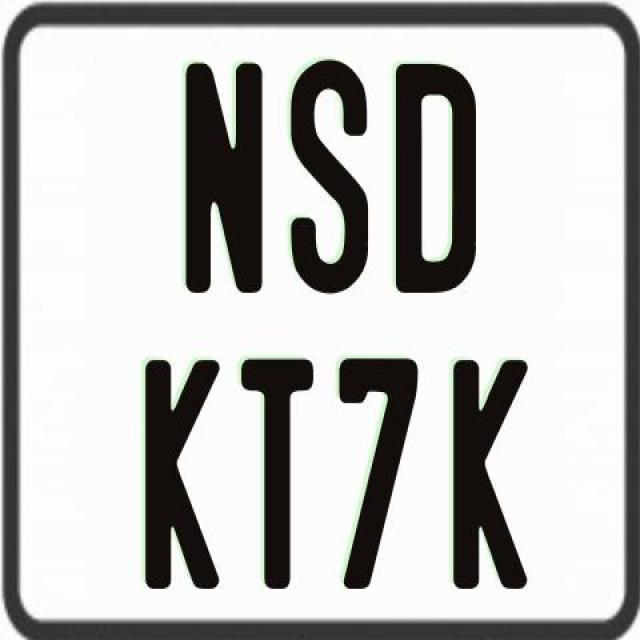7: (338, 357, 418, 597)
D: (392, 59, 474, 290)
K: (144, 358, 225, 596), (454, 358, 530, 592)
N: (184, 58, 266, 290)
S: (290, 56, 372, 296)
T: (242, 354, 322, 586)
